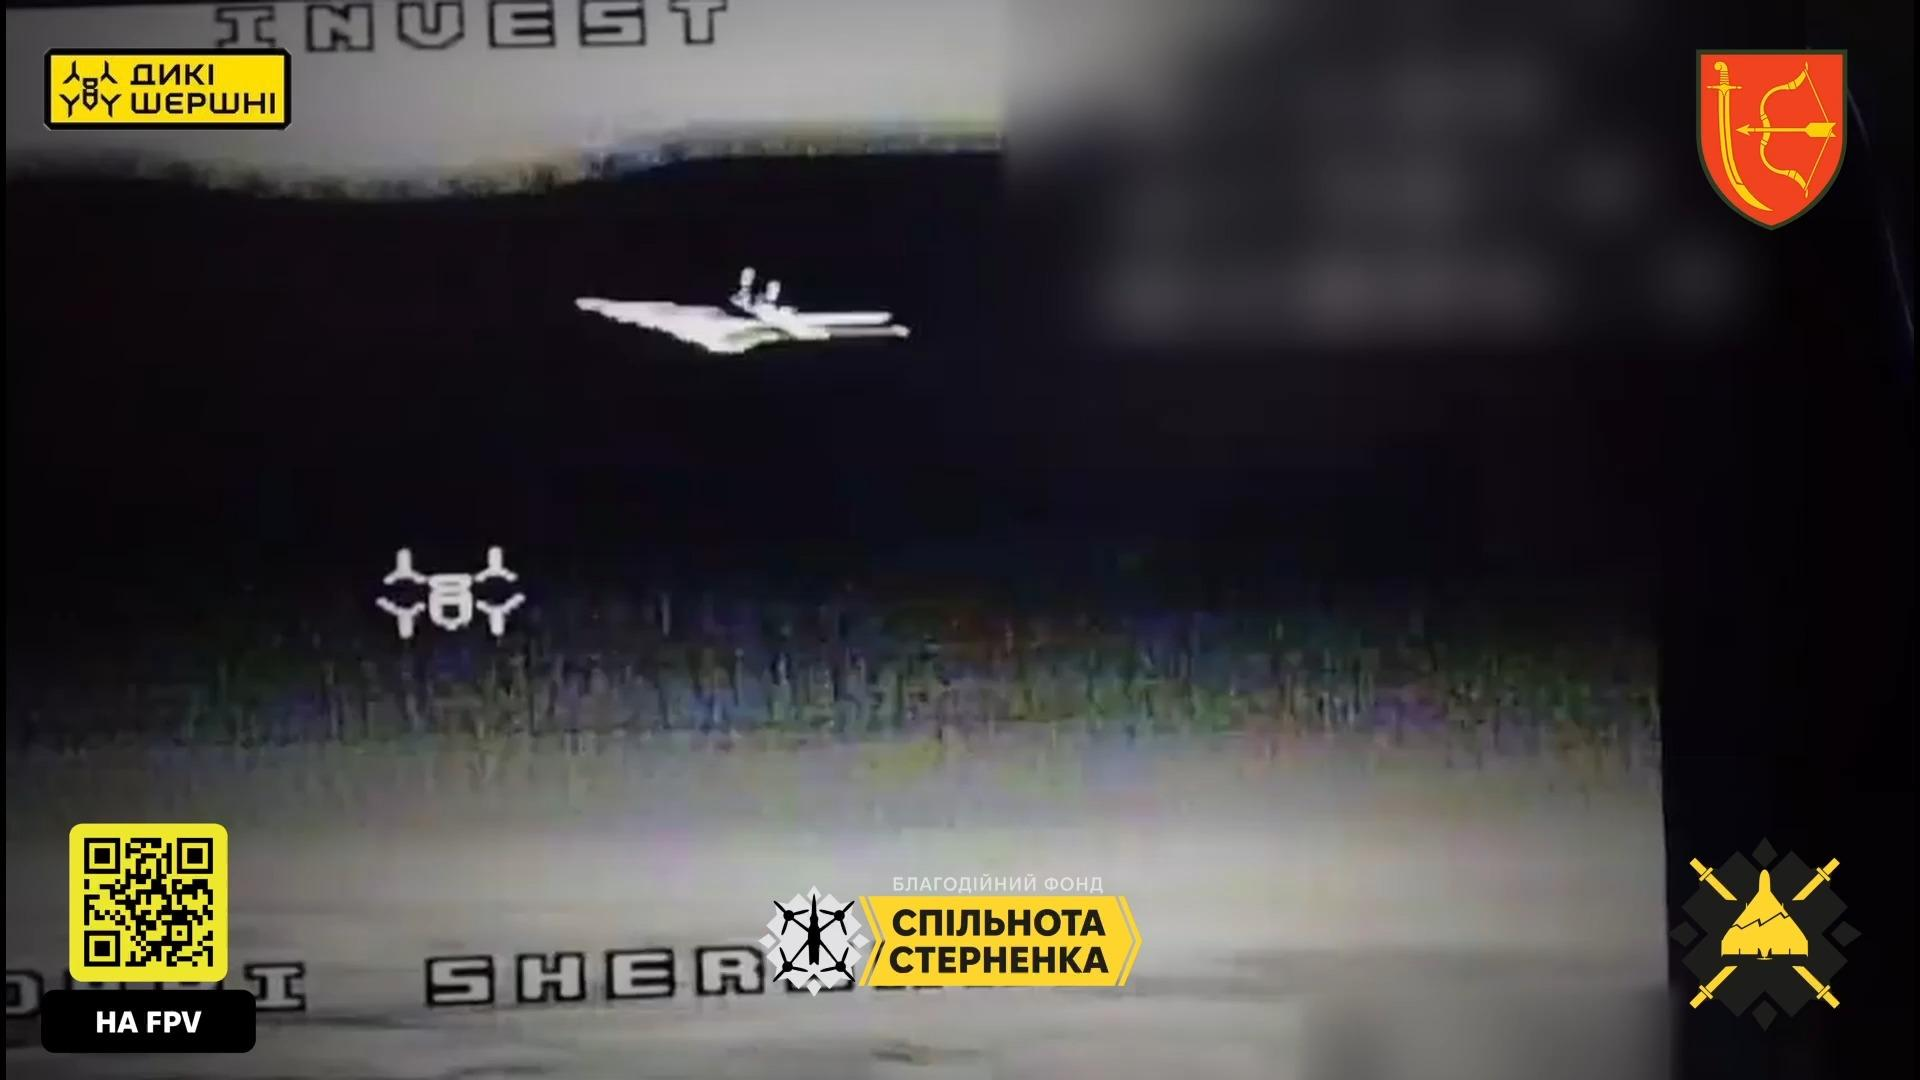Gerbera: (570, 268, 916, 356)
